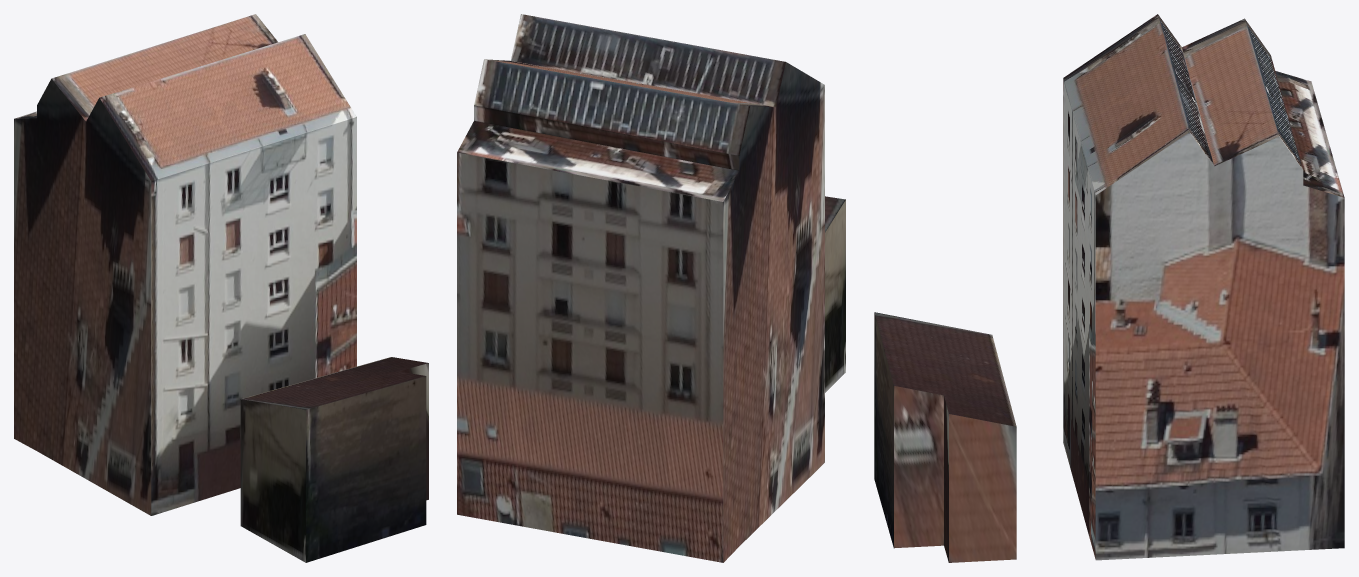
The picture shows the model from 3 angles, left to right: view 1: azimuth 30°, elevation 25°; view 2: azimuth 150°, elevation 25°; view 3: azimuth 270°, elevation 25°; orthographic projection. The views are drawn at different scales.
Parts seen in each view (by area): view 1: Z_UP; view 2: Z_UP; view 3: Z_UP.
Boxes of the visible parts, bbox=[...] form: Z_UP: bbox=[14, 14, 428, 562]; Z_UP: bbox=[457, 14, 845, 562]; Z_UP: bbox=[874, 14, 1344, 562].
Bounding box in the file's own units: 16.14 × 24.12 × 24.21.
2 materials, 1 textured.
